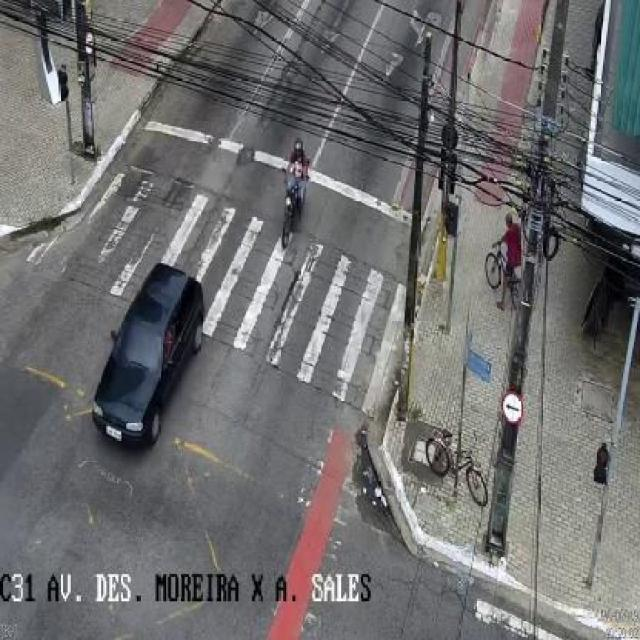Car: (92, 260, 208, 450)
Cycle: (424, 426, 488, 509), (482, 240, 522, 314), (279, 166, 310, 251)
